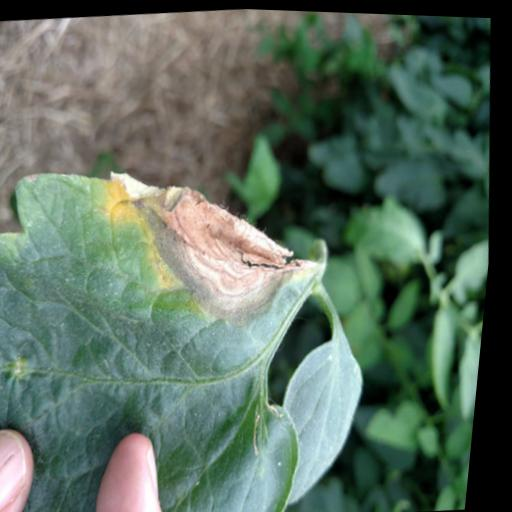Leaf Mold: (0, 146, 360, 512)
